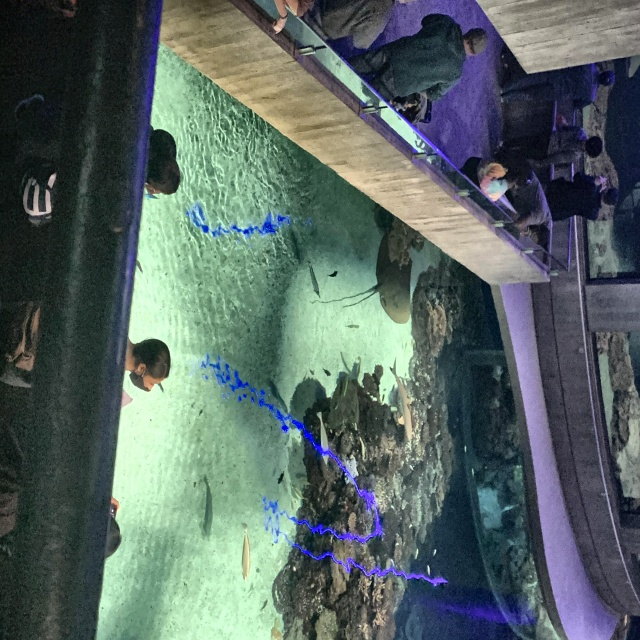fish: (314, 410, 331, 468), (240, 520, 251, 585), (203, 475, 212, 541), (307, 259, 321, 300), (289, 483, 308, 501), (358, 435, 366, 463), (342, 373, 350, 398), (275, 470, 287, 486), (259, 599, 269, 612), (326, 270, 339, 280), (322, 366, 331, 378), (425, 564, 431, 578), (414, 547, 418, 561), (432, 548, 437, 559), (407, 524, 414, 531), (471, 468, 475, 480), (394, 541, 400, 548), (464, 445, 467, 454)
shark: (389, 359, 415, 442)
stingray: (376, 232, 412, 324)
